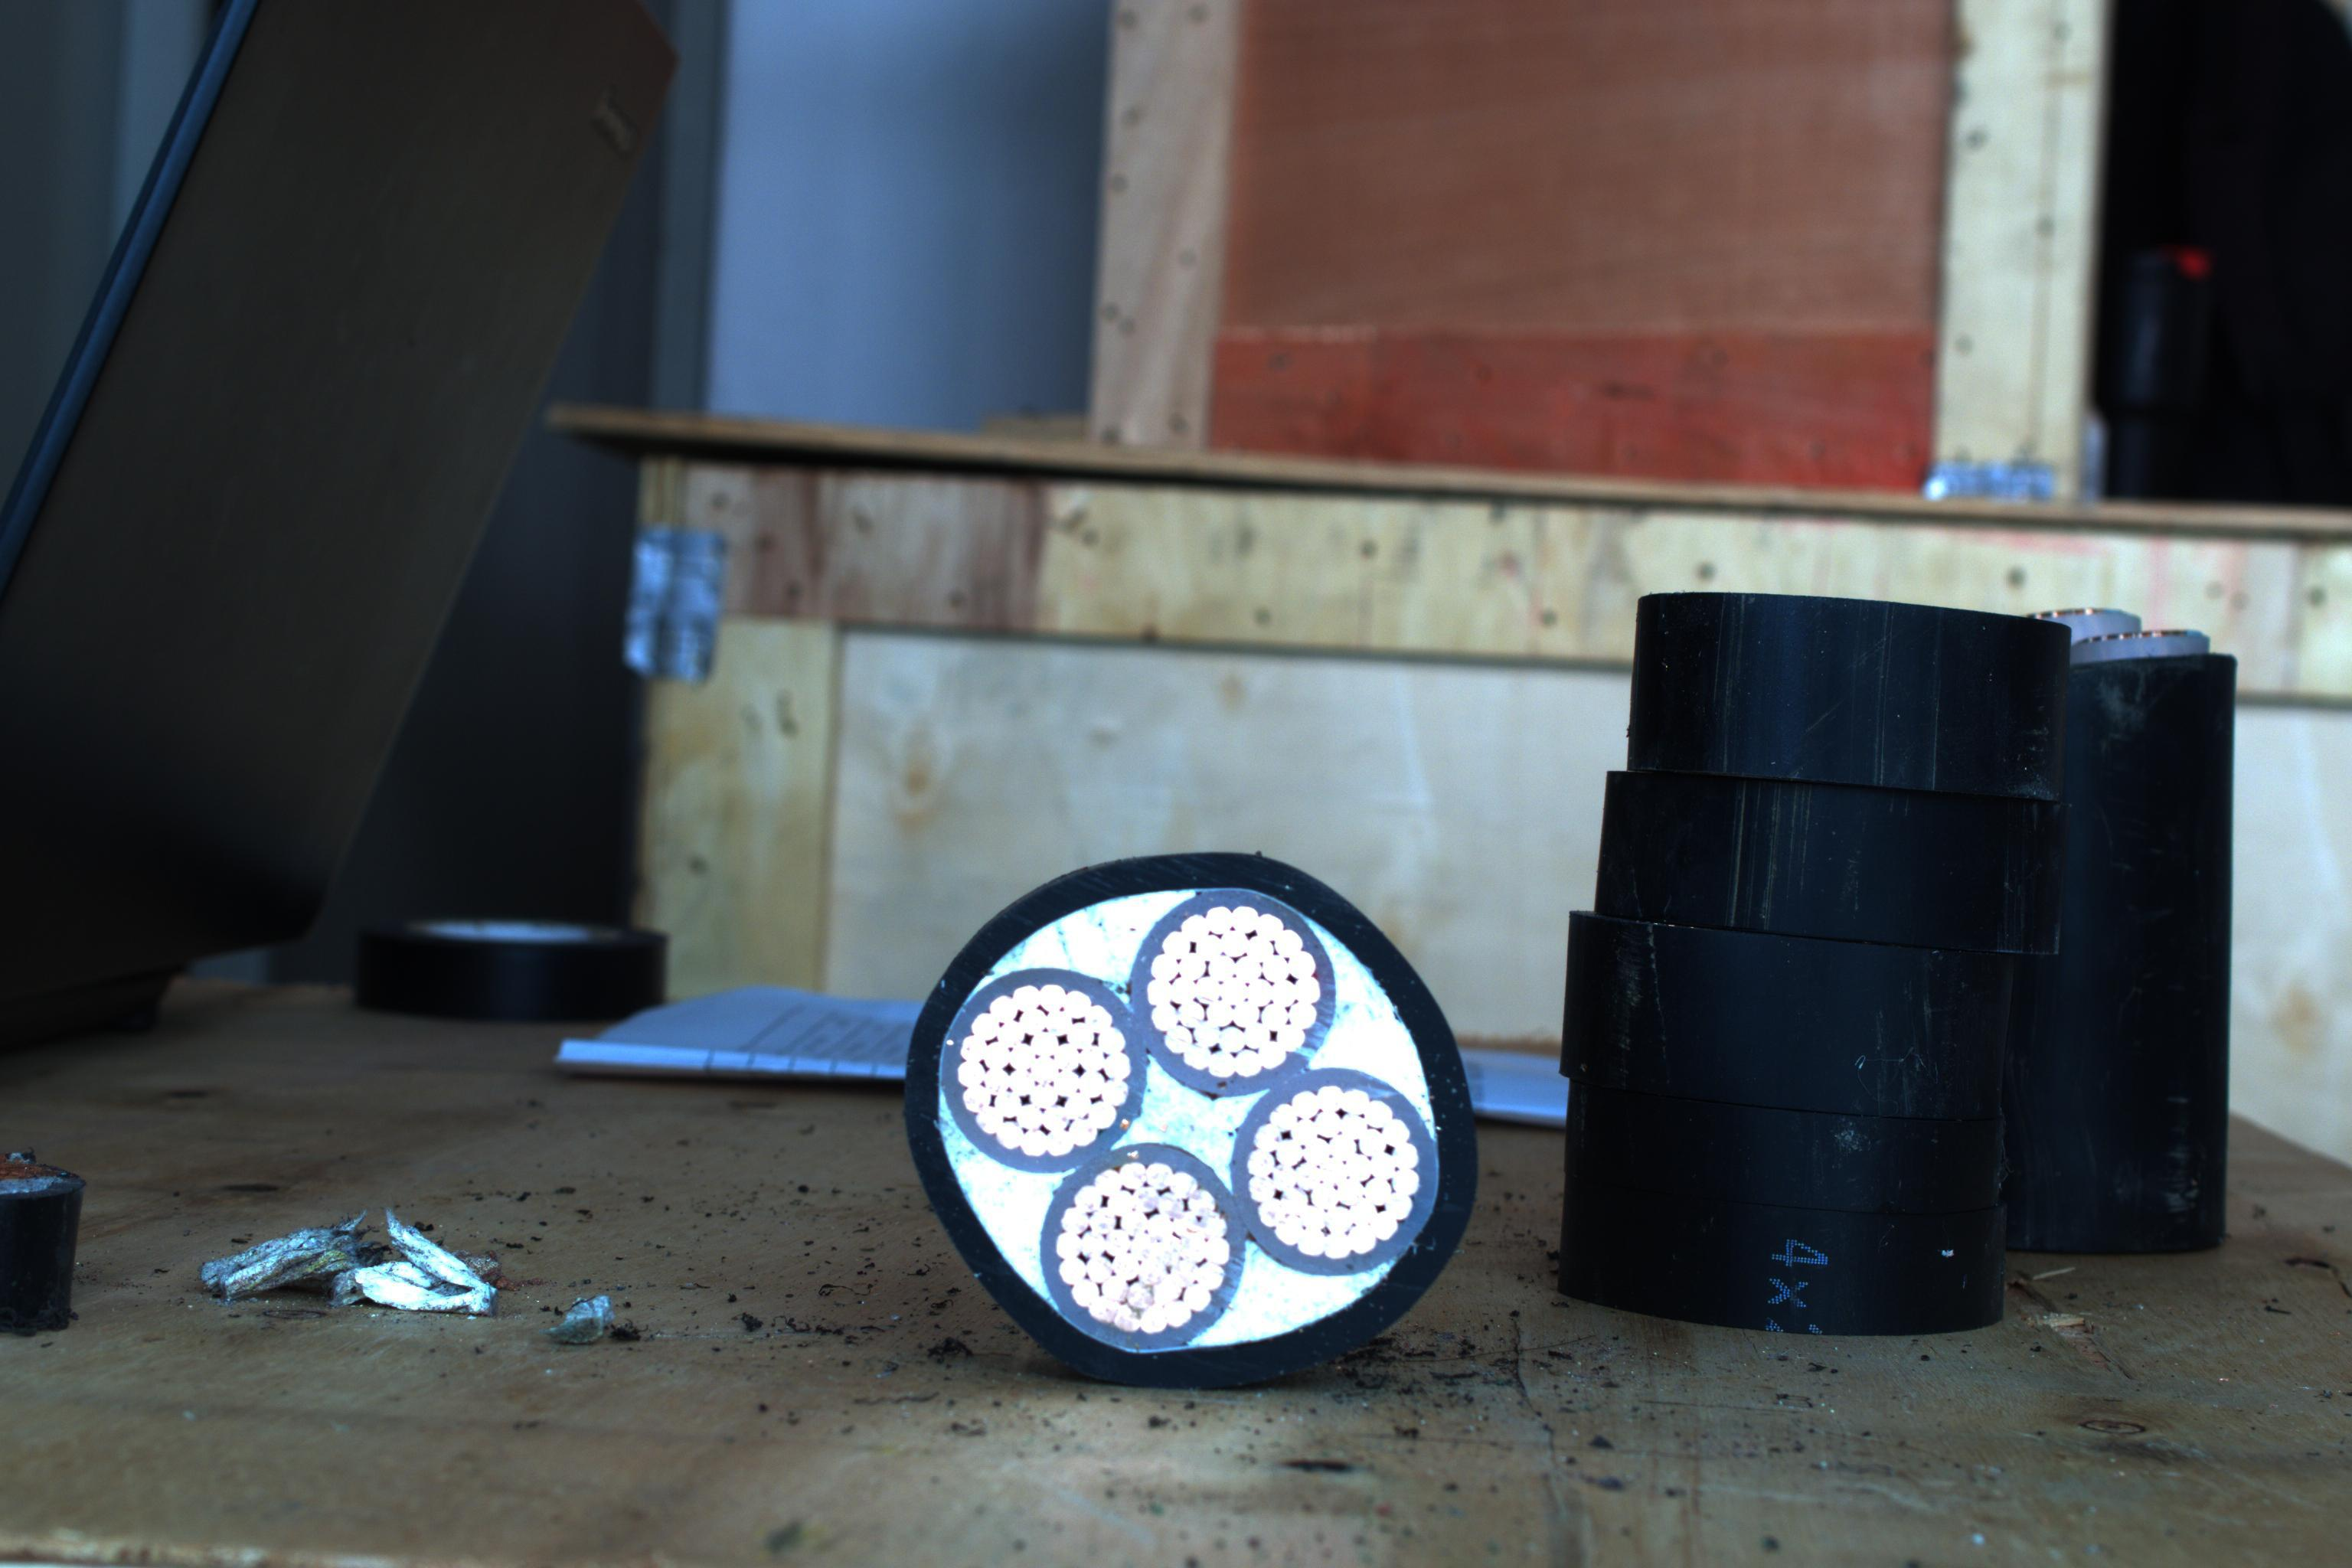YJV_0.6_1kV_4x240: (873, 831, 1472, 1395)
